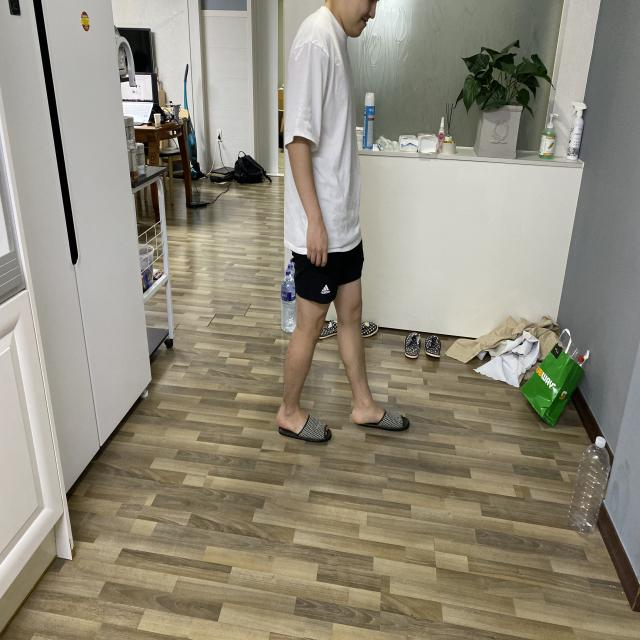no-boots: (260, 395, 339, 465), (346, 393, 419, 445)
